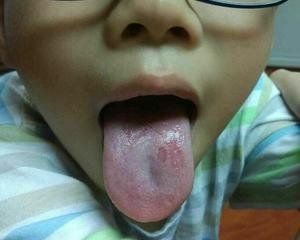baitaishe: (102, 117, 195, 224)
